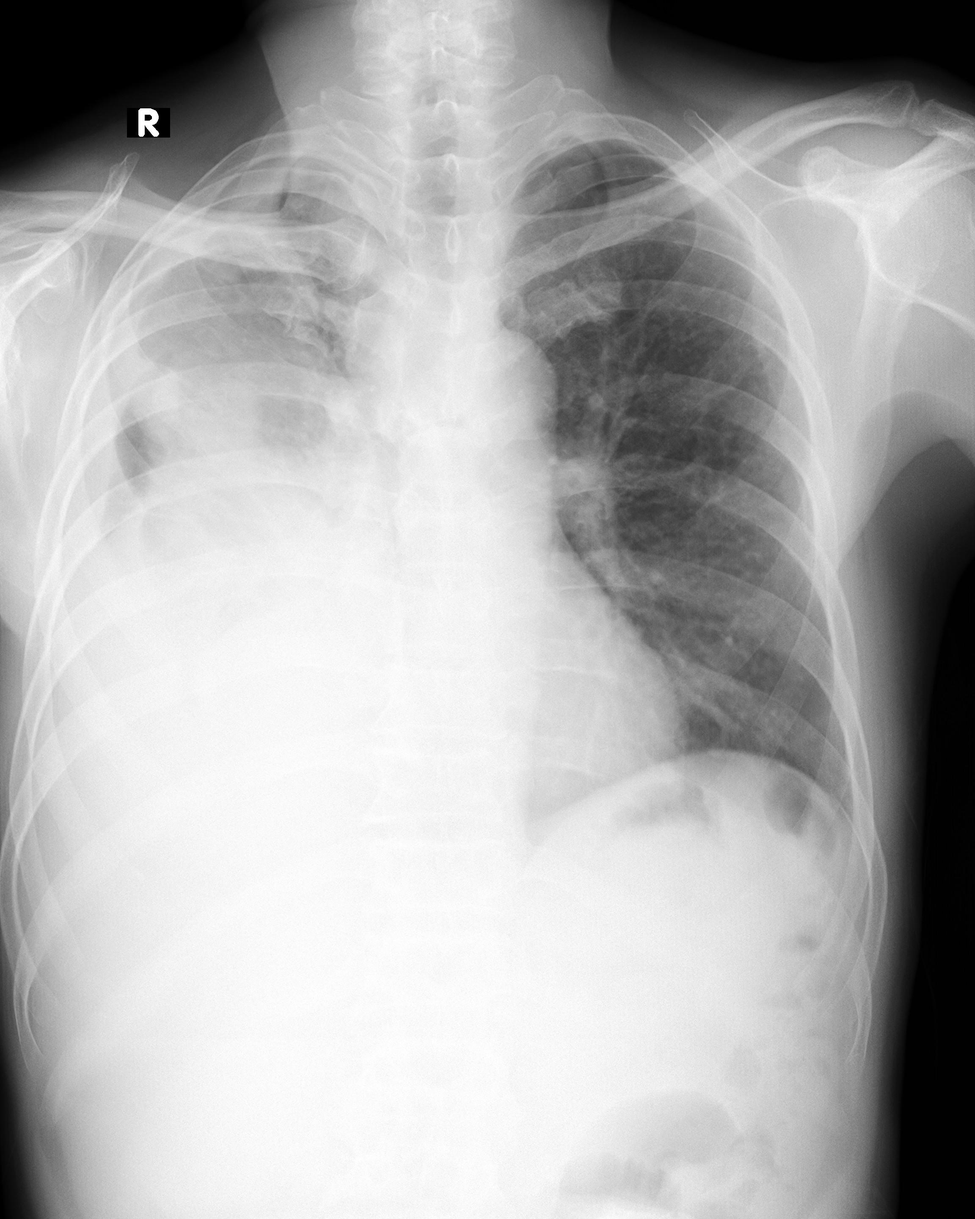Pleural thickening: (138, 123, 302, 287)
